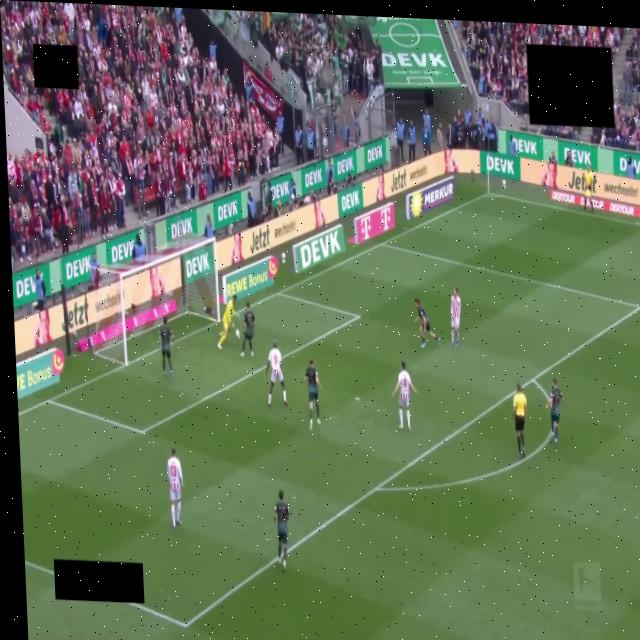ball: (235, 329, 239, 337)
player: (392, 361, 417, 430), (266, 342, 288, 406), (414, 298, 440, 347), (167, 448, 182, 529), (274, 491, 289, 570), (305, 357, 320, 430), (238, 302, 257, 357), (547, 379, 563, 444), (218, 295, 237, 349), (159, 317, 174, 379), (451, 288, 461, 347)
referee: (513, 383, 526, 458)
